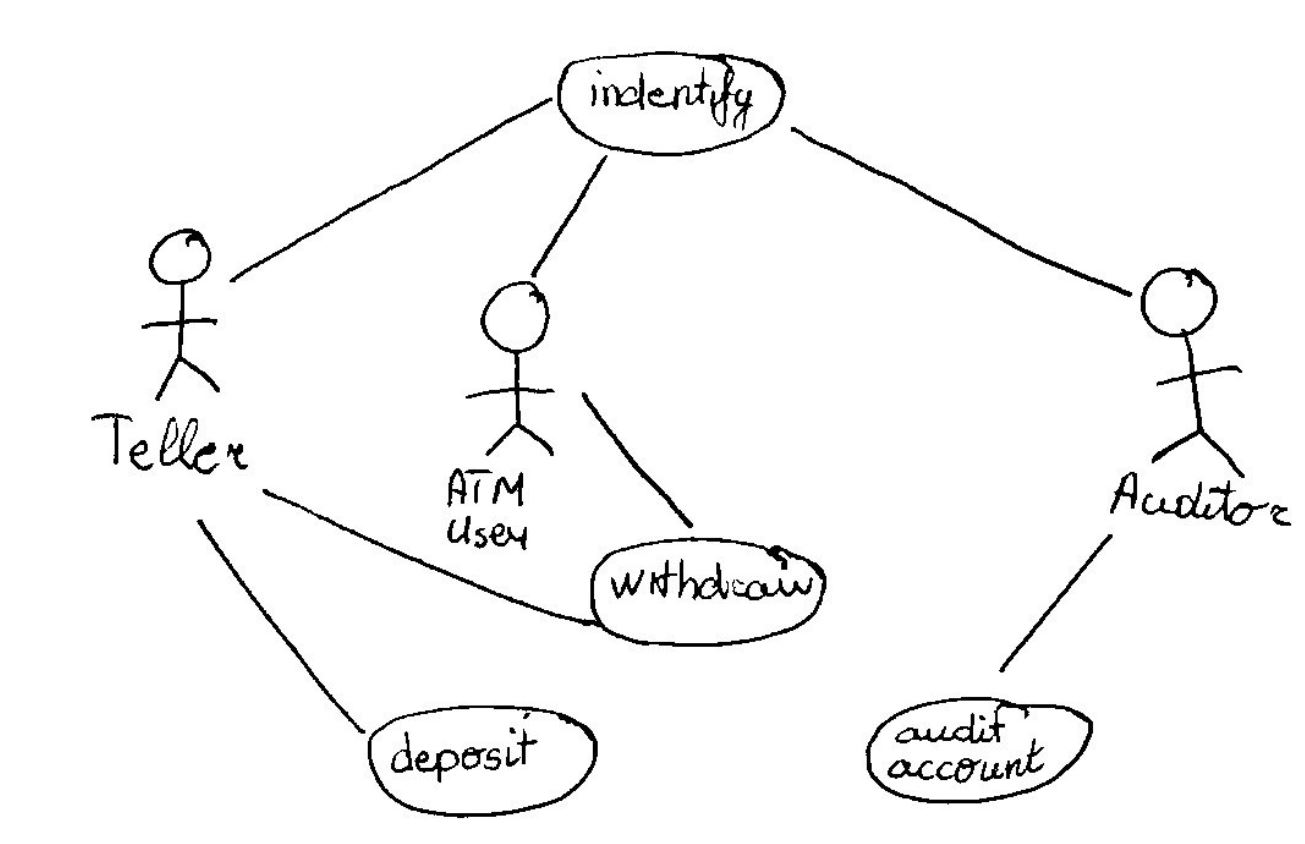actor: (1137, 266, 1258, 479), (462, 279, 562, 463), (144, 224, 226, 401)
association: (227, 95, 555, 283), (791, 127, 1133, 297), (259, 488, 591, 624), (198, 516, 364, 732), (578, 389, 697, 528), (997, 533, 1114, 670), (532, 153, 608, 278)
text: (1100, 464, 1298, 532), (87, 403, 261, 479), (586, 63, 755, 133), (884, 717, 1053, 786), (601, 559, 809, 607), (378, 728, 544, 786), (437, 466, 542, 553)
use_case: (587, 536, 828, 647), (365, 705, 595, 820), (863, 695, 1094, 805), (555, 51, 786, 157)
